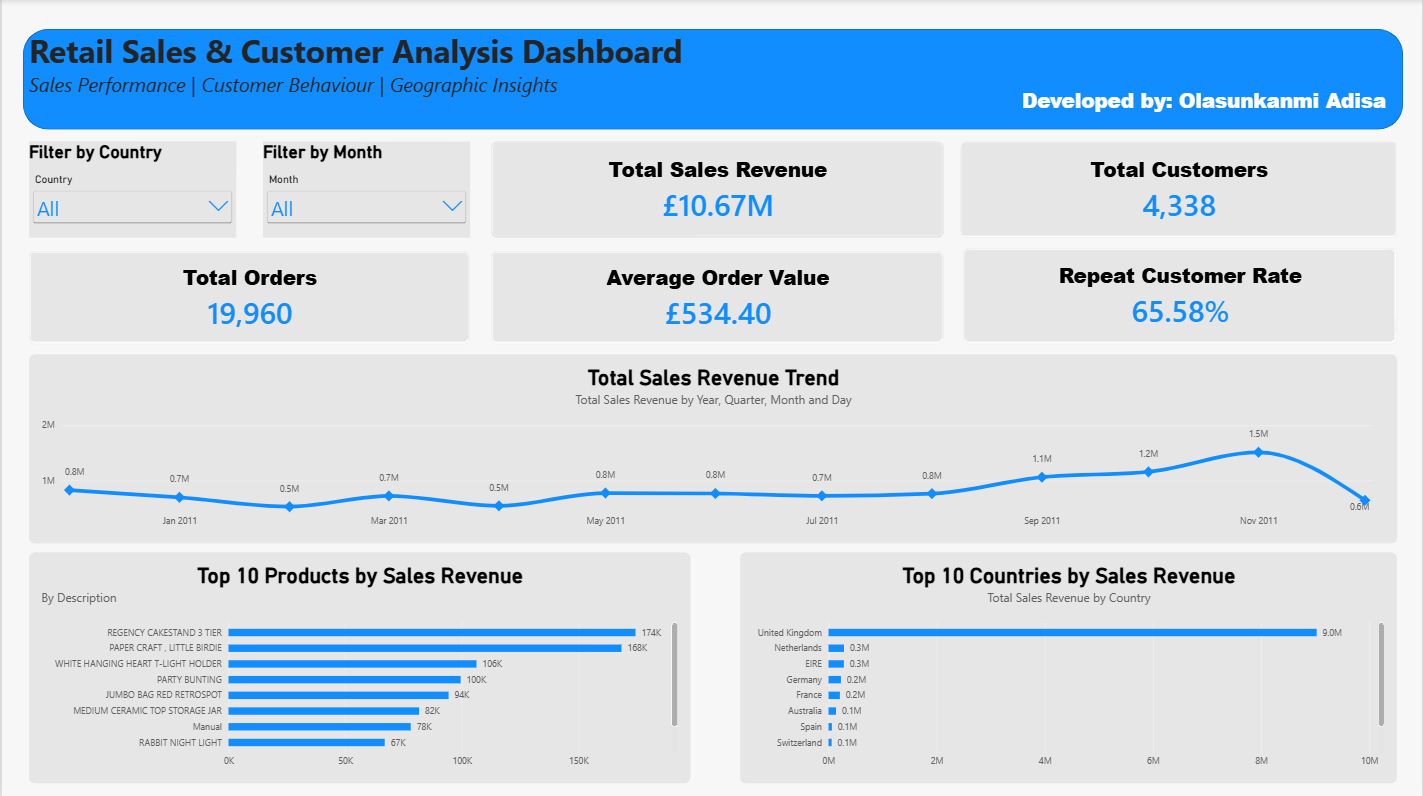

This screenshot's page, from the dashboard's own definition file:
{"tool":"powerbi","page":{"name":"Page 1","canvas":[1920,1080],"ordinal":0},"visuals":[{"type":"shape","box":[28.4,40.6,1865.4,135.8],"z":0},{"type":"cardVisual","fields":{"Data":["Retail_Sales_Cleaned.Total Sales Revenue"]},"box":[661,192.6,612.3,129.8],"z":1000},{"type":"cardVisual","fields":{"Data":["Retail_Sales_Cleaned.Total Orders Display"]},"box":[36.5,340.6,596.1,125.7],"z":2000},{"type":"cardVisual","fields":{"Data":["Retail_Sales_Cleaned.Total Customers Display"]},"box":[1295.6,192.6,590,129.8],"z":3000},{"type":"cardVisual","fields":{"Data":["Retail_Sales_Cleaned.Average Order Value"]},"box":[661,340.6,612.3,125.7],"z":4000},{"type":"lineChart","title":"Total Sales Revenue Trend","fields":{"Category":["Retail_Sales_Cleaned.Month.Variation.Date Hierarchy.Year","Retail_Sales_Cleaned.Month.Variation.Date Hierarchy.Quarter","Retail_Sales_Cleaned.Month.Variation.Date Hierarchy.Month","Retail_Sales_Cleaned.Month.Variation.Date Hierarchy.Day"],"Y":["Retail_Sales_Cleaned.Total Sales Revenue"]},"box":[36.5,480.5,1849.1,255.5],"z":5000},{"type":"clusteredBarChart","title":"Top 10 Products by Sales Revenue","fields":{"Category":["Retail_Sales_Cleaned.Description"],"Y":["Retail_Sales_Cleaned.Total Sales Revenue"]},"box":[36.5,748.2,894.2,312.2],"z":6000},{"type":"clusteredBarChart","title":"Top 10 Countries by Sales Revenue","fields":{"Category":["Retail_Sales_Cleaned.Country"],"Y":["Retail_Sales_Cleaned.Total Sales Revenue"]},"box":[997.6,748.2,888.1,312.2],"z":7000},{"type":"cardVisual","fields":{"Data":["Retail_Sales_Cleaned.Repeat Customer Rate"]},"box":[1299.7,336.6,586,129.8],"z":8000},{"type":"slicer","title":"Filter by Country","fields":{"Values":["Retail_Sales_Cleaned.Country"]},"box":[36.5,192.6,279.8,129.8],"z":9000},{"type":"slicer","title":"Filter by Month","fields":{"Values":["Retail_Sales_Cleaned.Month"]},"box":[352.8,192.6,279.8,129.8],"z":10000},{"type":"textbox","box":[36.5,40.6,894.2,152.1],"z":11000},{"type":"textbox","box":[1378.8,117.6,506.9,75],"z":12000}]}

Visuals, with their boxes in screenshot pixels (x1, y1, x2, y2), scaled from the page's 1920x1080 canvas onto the 1423x796 screenshot:
shape: (x1=21, y1=30, x2=1404, y2=130)
cardVisual - Retail_Sales_Cleaned.Total Sales Revenue: (x1=490, y1=142, x2=944, y2=238)
cardVisual - Retail_Sales_Cleaned.Total Orders Display: (x1=27, y1=251, x2=469, y2=344)
cardVisual - Retail_Sales_Cleaned.Total Customers Display: (x1=960, y1=142, x2=1398, y2=238)
cardVisual - Retail_Sales_Cleaned.Average Order Value: (x1=490, y1=251, x2=944, y2=344)
"Total Sales Revenue Trend" lineChart: (x1=27, y1=354, x2=1398, y2=542)
"Top 10 Products by Sales Revenue" clusteredBarChart: (x1=27, y1=551, x2=690, y2=782)
"Top 10 Countries by Sales Revenue" clusteredBarChart: (x1=739, y1=551, x2=1398, y2=782)
cardVisual - Retail_Sales_Cleaned.Repeat Customer Rate: (x1=963, y1=248, x2=1398, y2=344)
"Filter by Country" slicer: (x1=27, y1=142, x2=234, y2=238)
"Filter by Month" slicer: (x1=261, y1=142, x2=469, y2=238)
textbox: (x1=27, y1=30, x2=690, y2=142)
textbox: (x1=1022, y1=87, x2=1398, y2=142)
